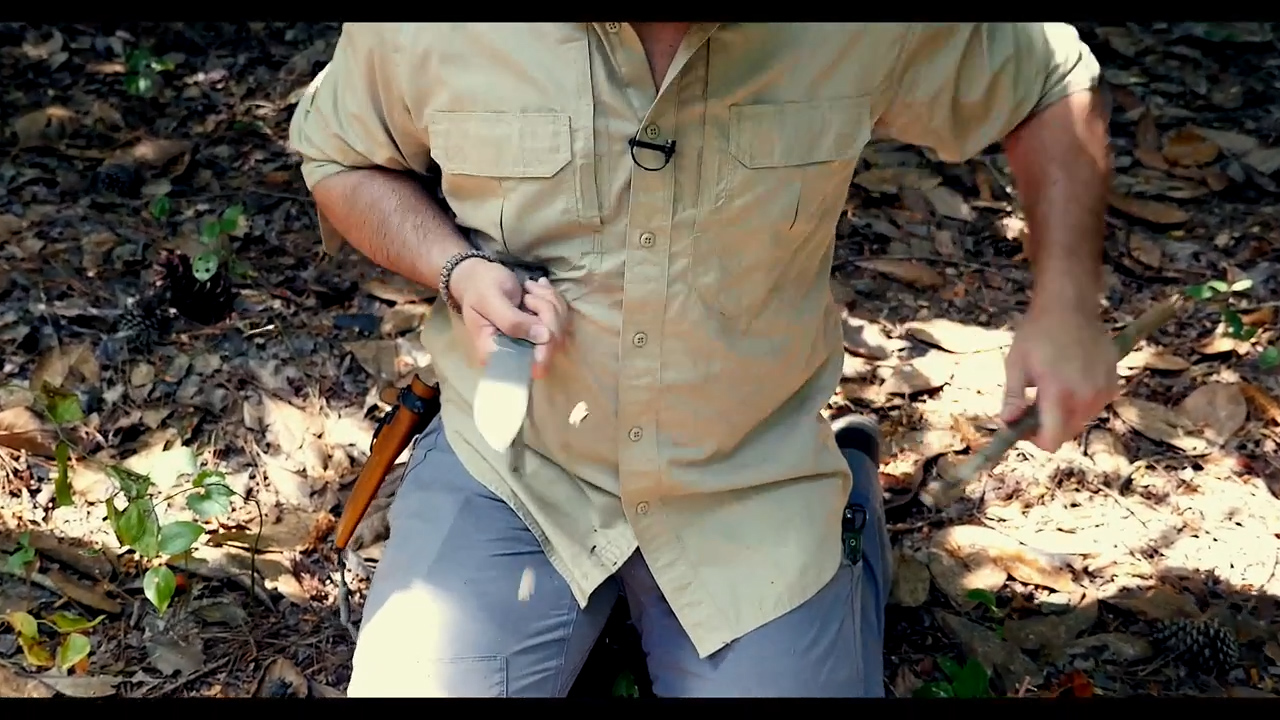knife: (458, 271, 566, 463)
